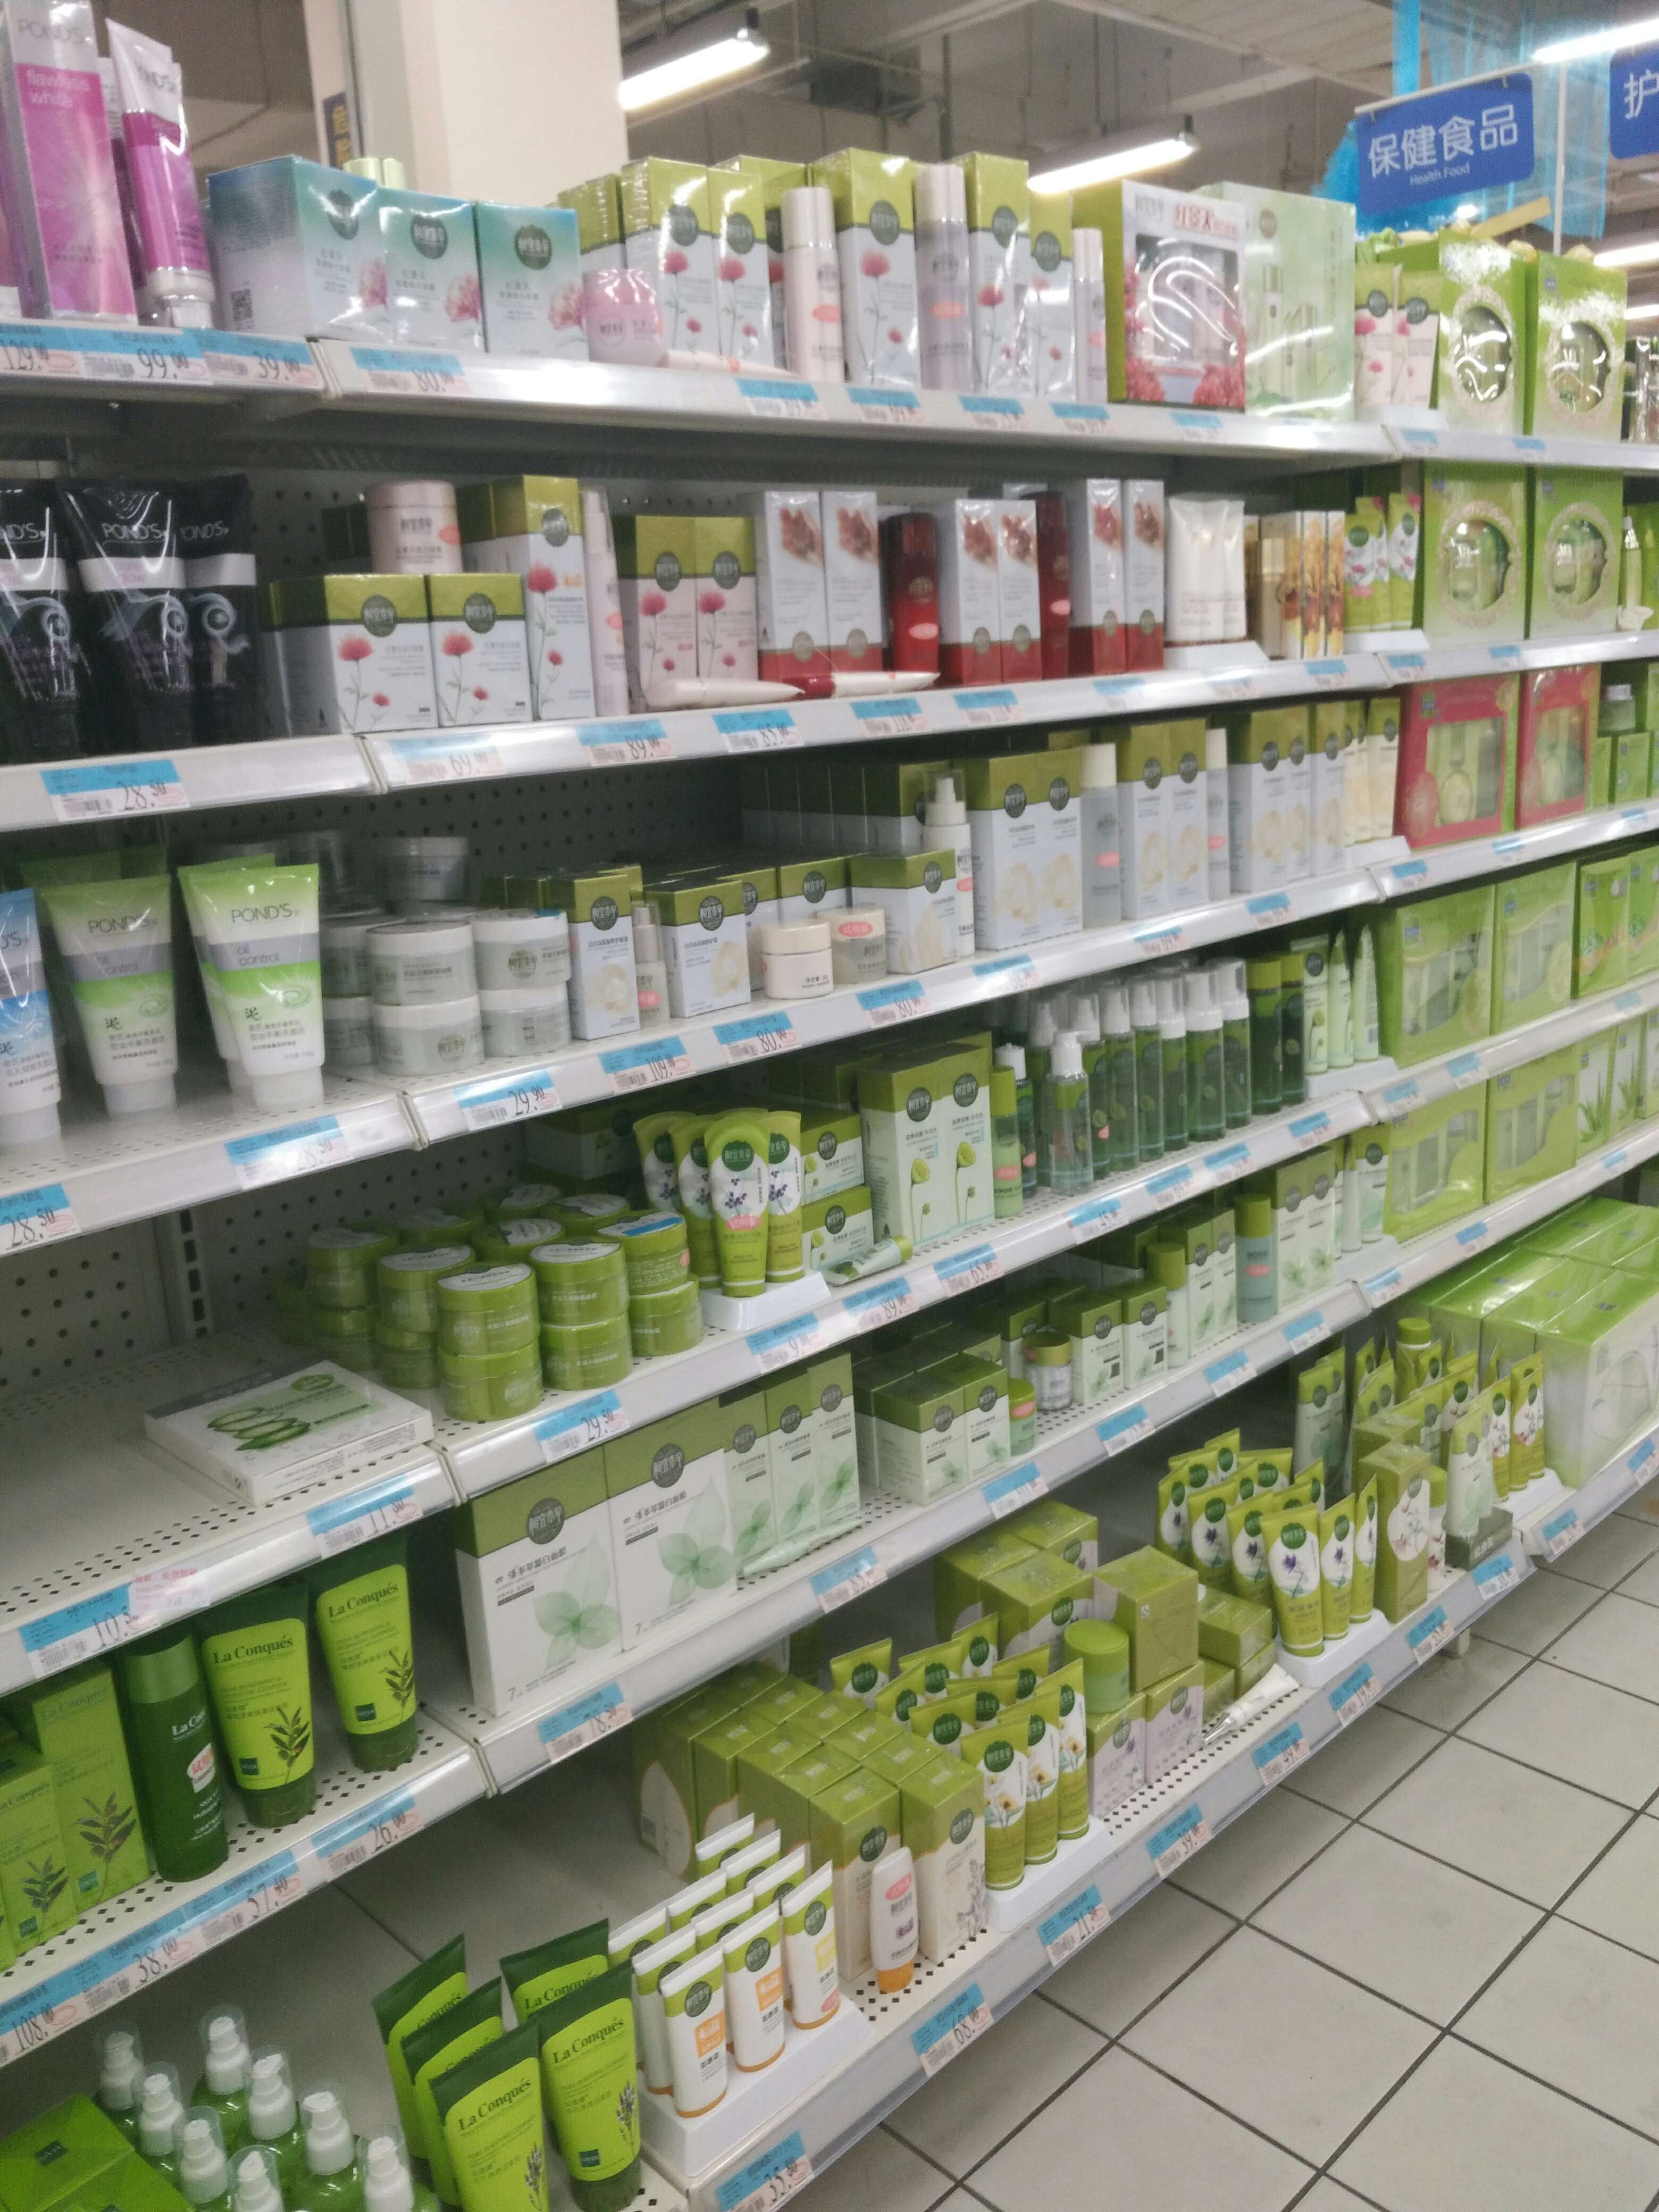Misplacement: (23, 836, 206, 1183)
Out-of-stock: (5, 1238, 160, 1684)
